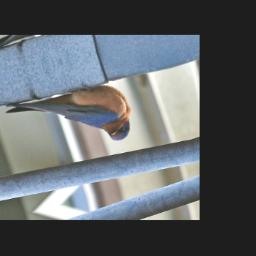Swallow: (0, 70, 138, 170)
